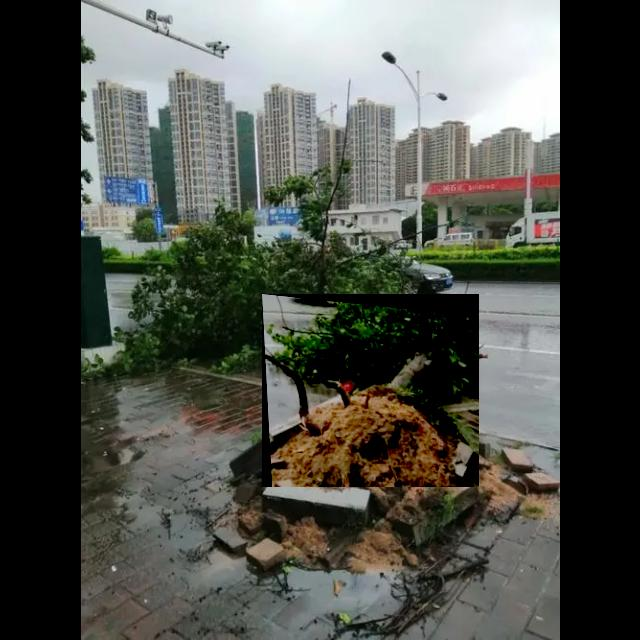Fallen Tree: (262, 294, 480, 488)
